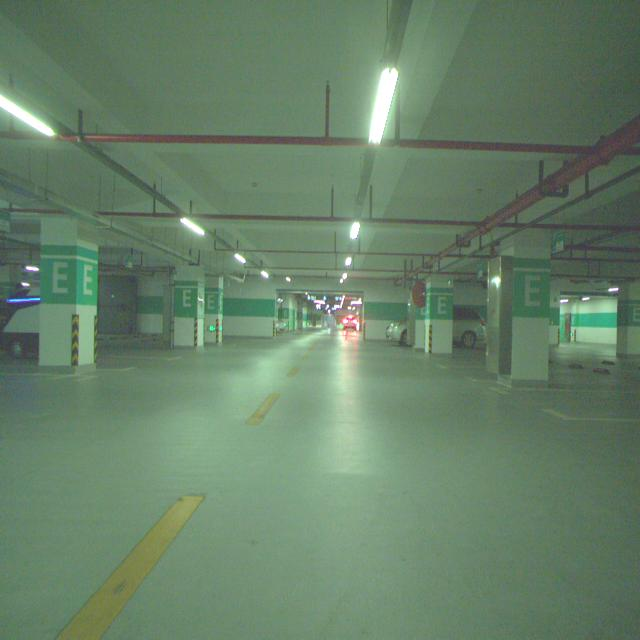pillar: (39, 219, 98, 367), (174, 266, 205, 348), (425, 277, 454, 353), (616, 281, 640, 356)
